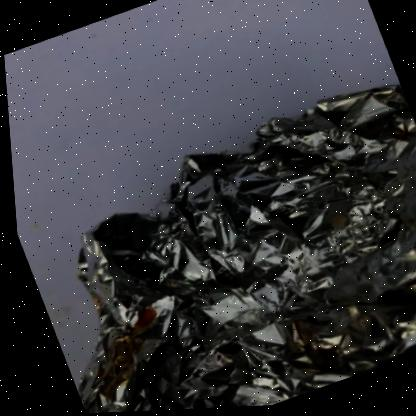Metal: (71, 89, 416, 414)
